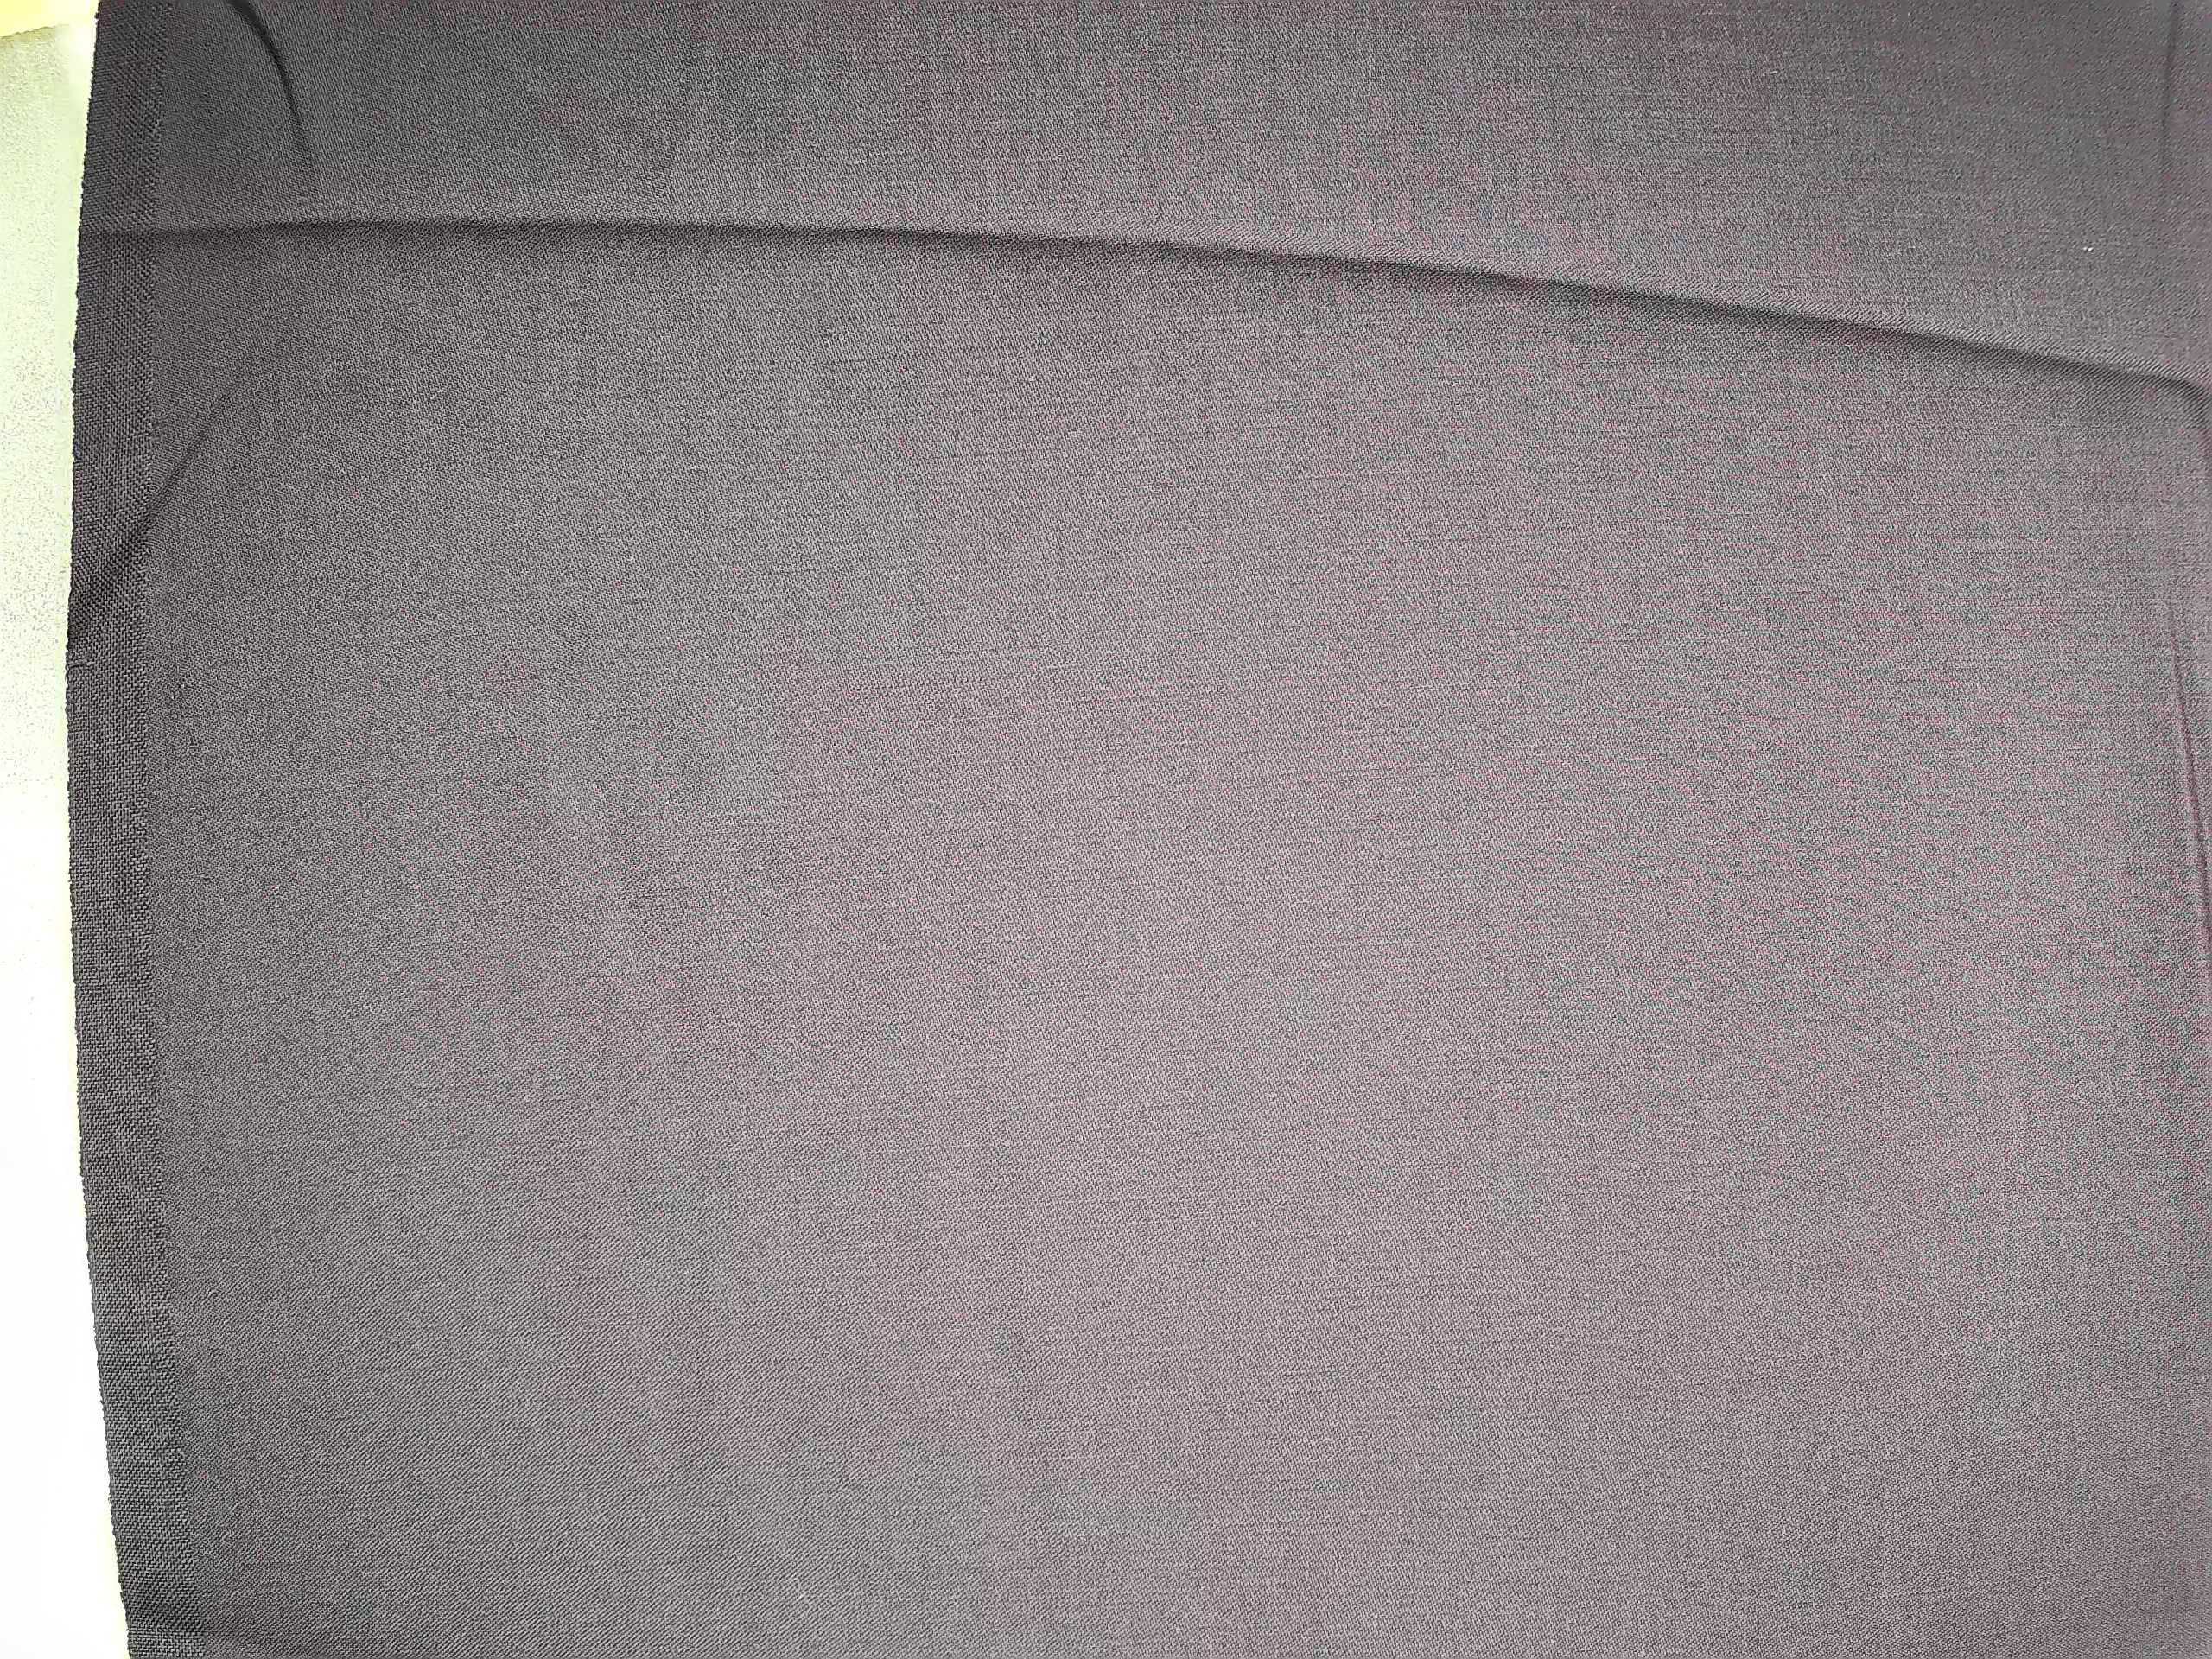others: (160, 660, 221, 854), (195, 1262, 233, 1324)
